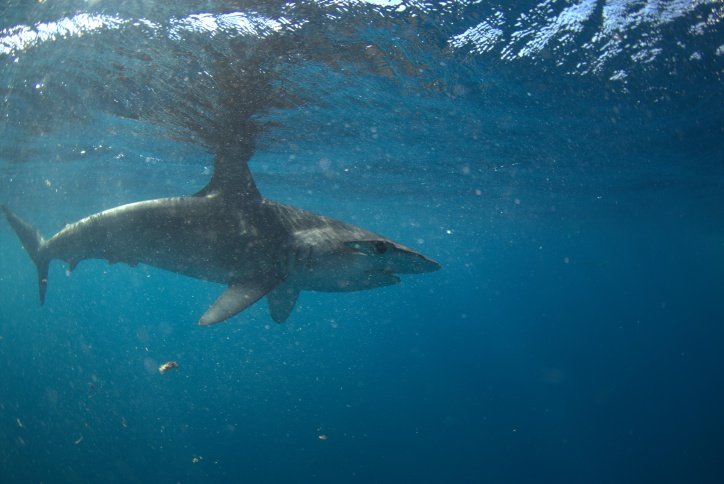Hammer: (1, 110, 458, 346)
